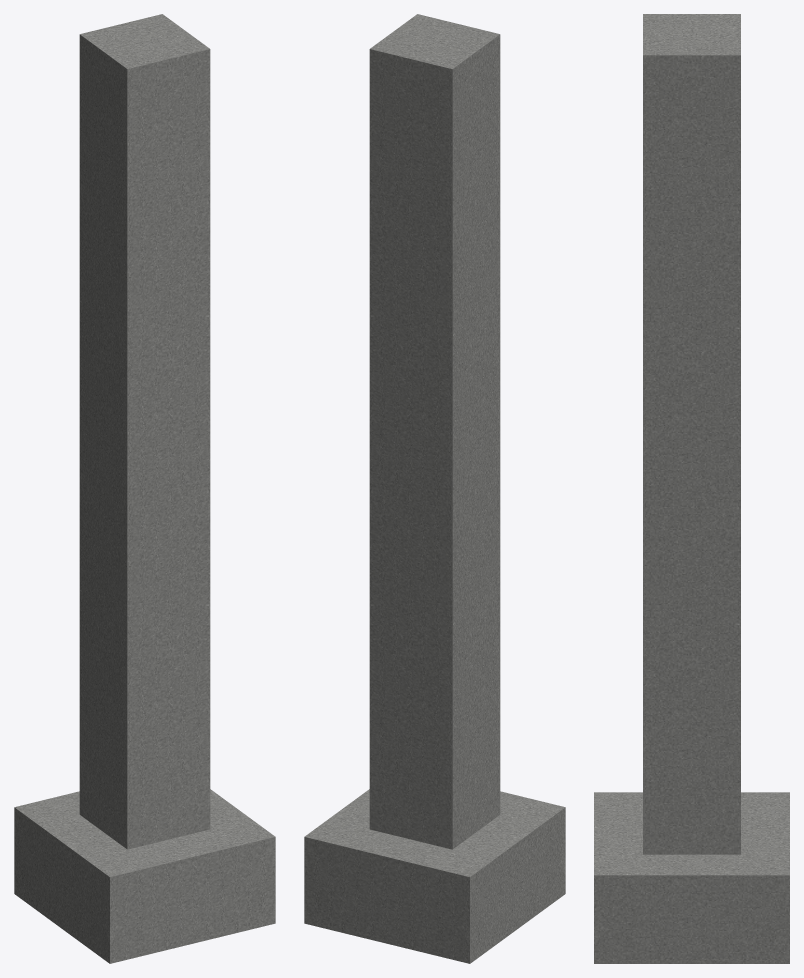
File: estate_pillar_3b.glb
3 views of the same model, side by side, from view 1: azimuth 30°, elevation 25°; view 2: azimuth 150°, elevation 25°; view 3: azimuth 270°, elevation 25° (orthographic). The views are drawn at different scales.
Visible parts, largest first — view 1: Cube.001, Cube; view 2: Cube.001, Cube; view 3: Cube.001, Cube.
Boxes of the visible parts, x1,y1,x2,y2 form: Cube.001: (79, 14, 210, 849); Cube: (14, 789, 275, 963); Cube.001: (369, 14, 500, 849); Cube: (304, 789, 565, 963); Cube.001: (643, 14, 740, 854); Cube: (594, 792, 789, 963).
Bounding box in the file's own units: 0.6 × 3 × 0.6.
1 material, 1 textured.
